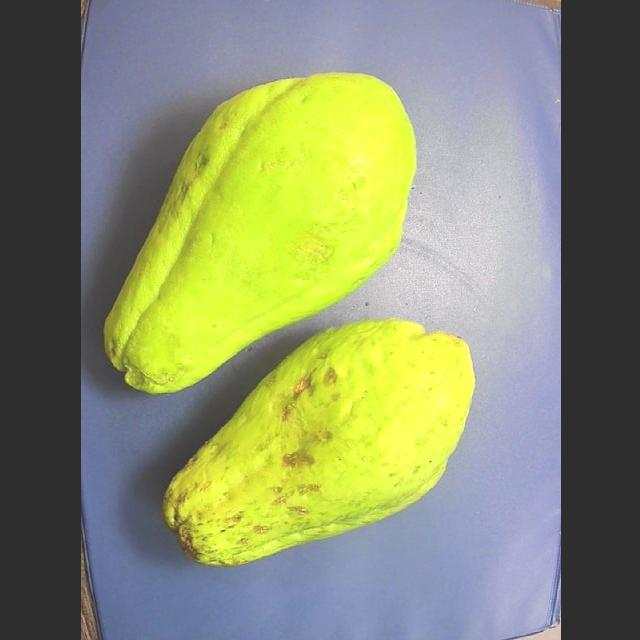chayote: (105, 73, 413, 393), (164, 318, 475, 567)
